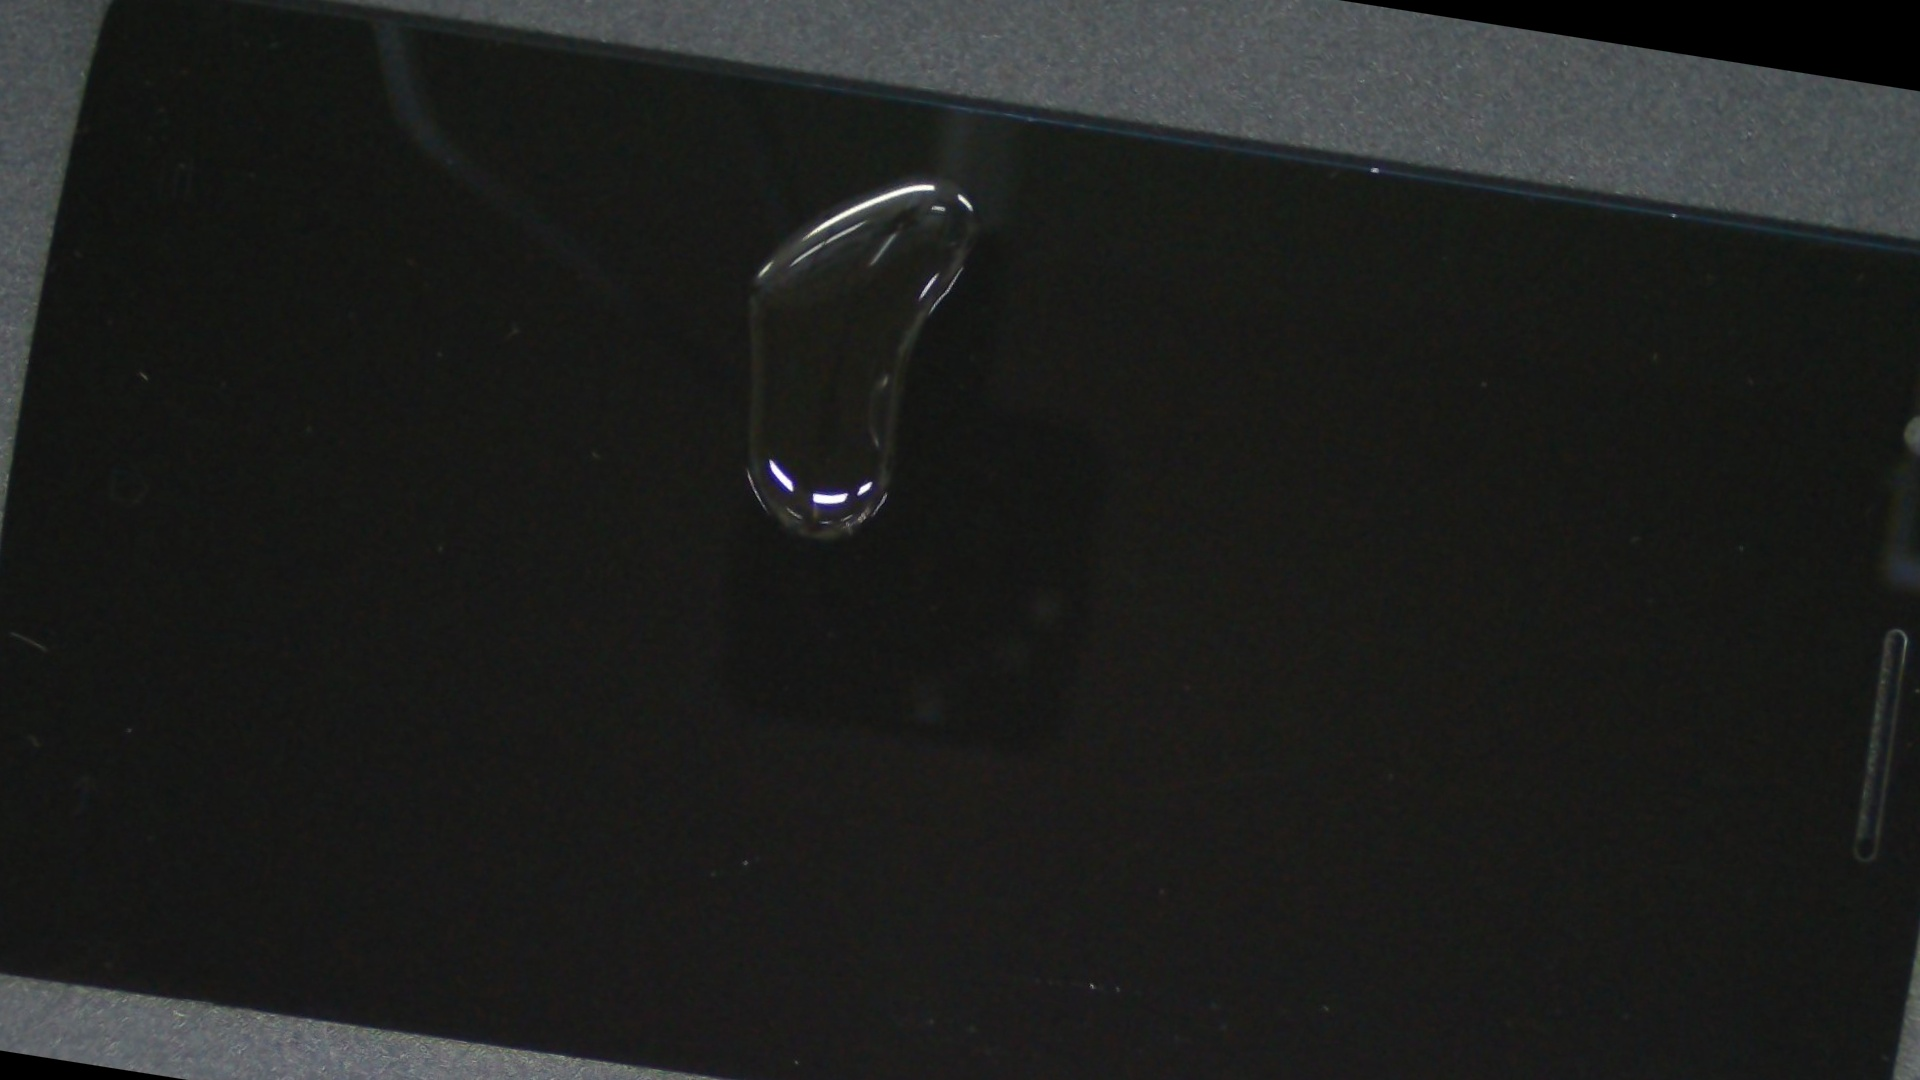oil: (442, 0, 1436, 365)
